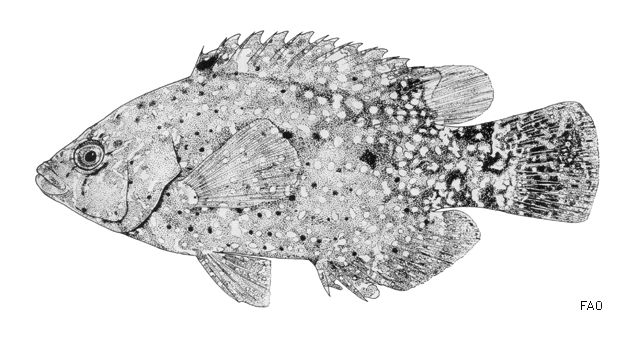fish: (36, 30, 601, 307)
